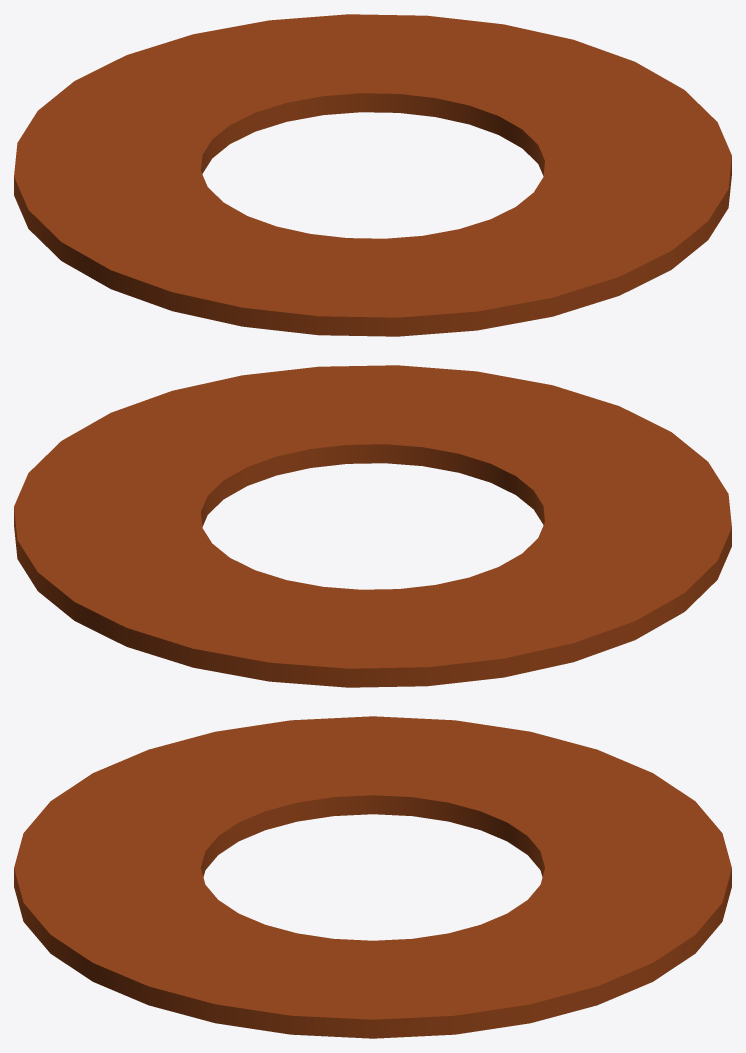
Rendered from point.fbx.
3 renders of one model, top to bottom at view 1: azimuth 30°, elevation 25°; view 2: azimuth 150°, elevation 25°; view 3: azimuth 270°, elevation 25°, orthographic.
Parts seen in each view (by area): view 1: Circle001; view 2: Circle001; view 3: Circle001.
Part boxes in pixels (x1,y1,x2,y2): Circle001: (14,14,731,336); Circle001: (14,365,731,687); Circle001: (14,716,731,1038).
Size of the model in its own units: 51.51 by 1.5 by 51.51.
